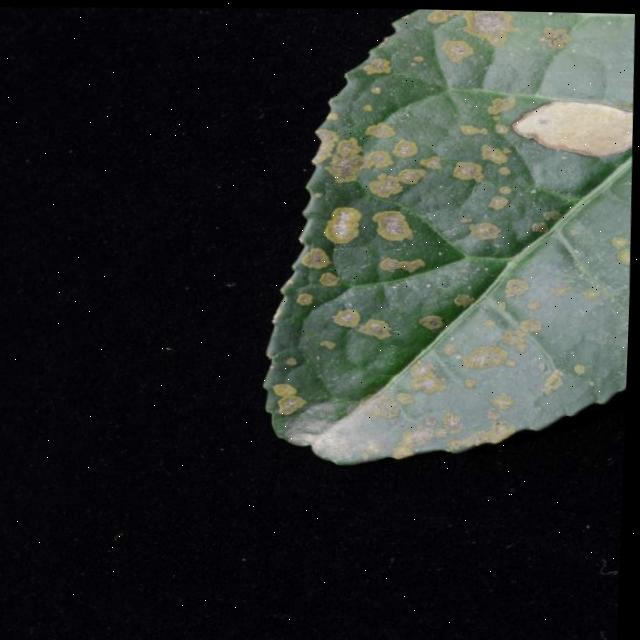Tea algae leaf spot: (272, 81, 557, 446)
